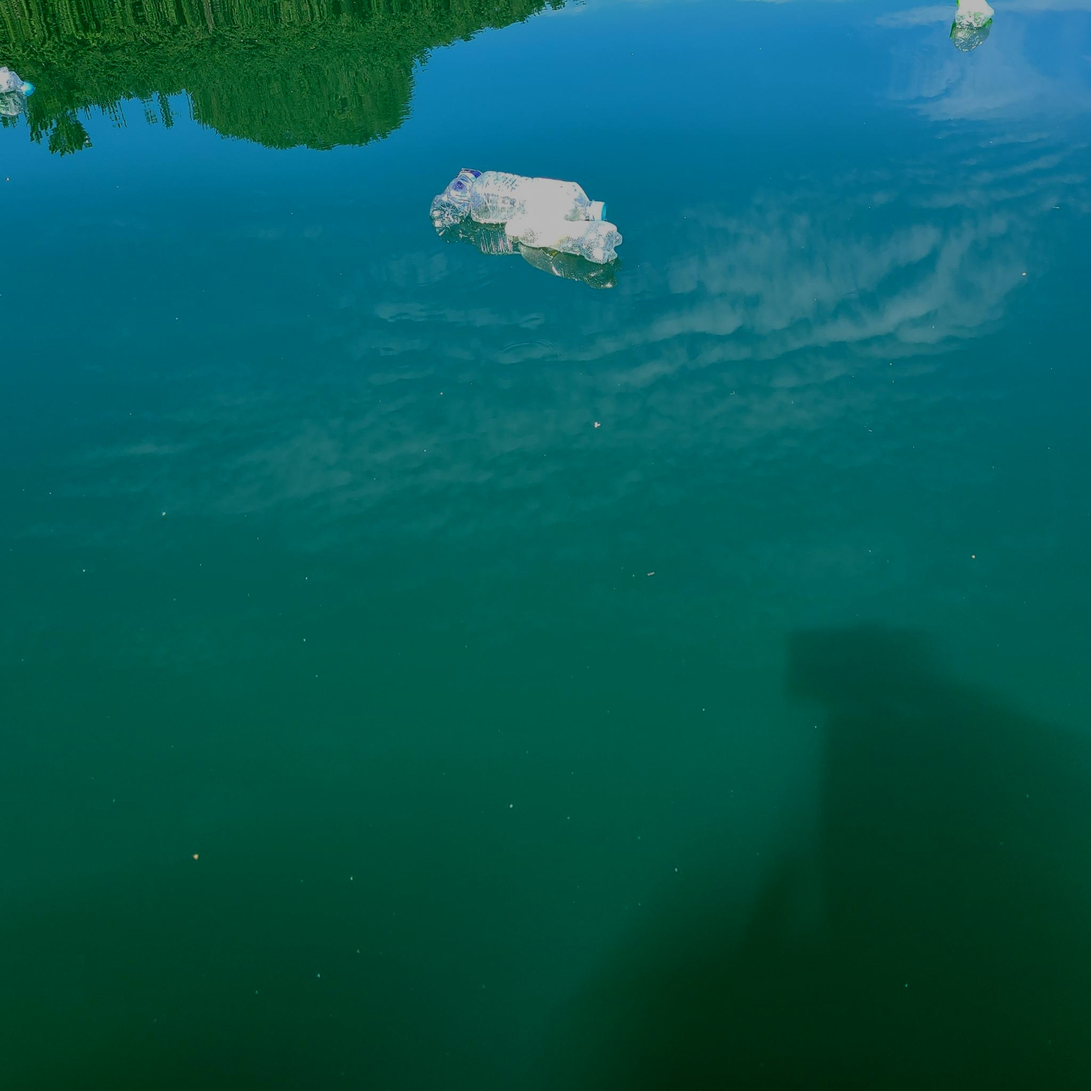sampah_terapung: (471, 171, 607, 224), (505, 215, 623, 265), (430, 169, 483, 228), (956, 1, 995, 30), (1, 68, 36, 96)
